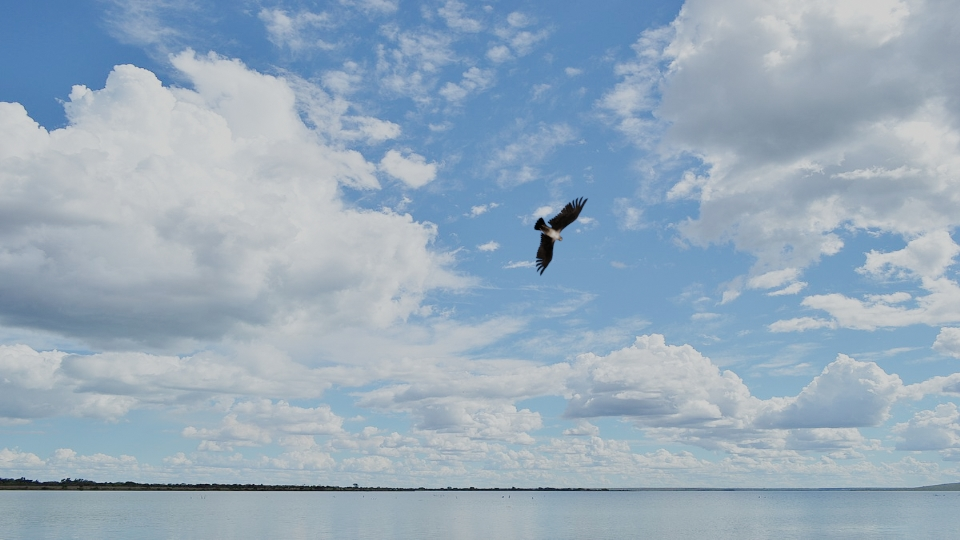bird: (530, 194, 588, 274)
